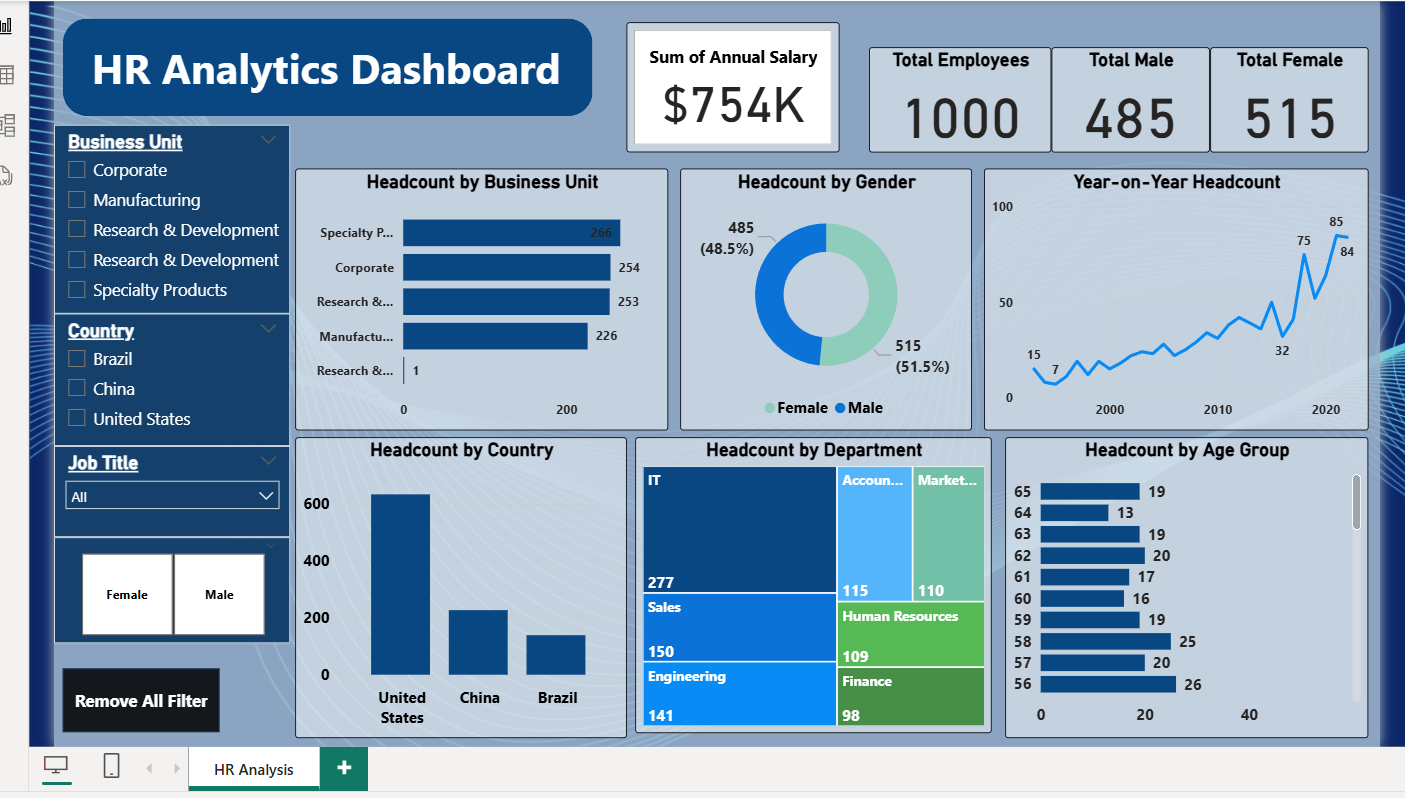

This screenshot's page, from the dashboard's own definition file:
{"tool":"powerbi","page":{"name":"HR Analysis","canvas":[1280,720],"ordinal":0},"visuals":[{"type":"donutChart","title":"Headcount by Gender","fields":{"Category":["Employee Data.Gender"],"Y":["CountNonNull(Employee Data.Employee ID)"]},"box":[604.3,161.4,281.4,252.9],"z":0},{"type":"lineChart","title":"Year-on-Year Headcount","fields":{"Category":["Employee Data.Hire Date.Variation.Date Hierarchy.Year"],"Y":["CountNonNull(Employee Data.Employee ID)"]},"box":[897.1,161.4,371.4,252.9],"z":1000},{"type":"clusteredBarChart","title":"Headcount by Age Group","fields":{"Category":["Employee Data.Age"],"Y":["CountNonNull(Employee Data.Employee ID)"]},"box":[918.6,421.4,350,290],"z":2000},{"type":"columnChart","title":"Headcount by Country","fields":{"Y":["CountNonNull(Employee Data.Country)"],"Category":["Employee Data.Country"]},"box":[232.9,421.4,320,290],"z":3000},{"type":"clusteredBarChart","title":"Headcount by Business Unit","fields":{"Y":["CountNonNull(Employee Data.Country)"],"Category":["Employee Data.Business Unit"]},"box":[232.9,161.4,360,252.9],"z":4000},{"type":"treemap","title":"Headcount by Department","fields":{"Values":["CountNonNull(Employee Data.Country)"],"Group":["Employee Data.Department"]},"box":[561.4,421.4,344.3,285.7],"z":5000},{"type":"card","title":"Total Female","fields":{"Values":["Employee Data.Total_Female_Count"]},"box":[1115.7,44.3,152.9,101.4],"z":6000},{"type":"card","title":"Total Male","fields":{"Values":["Employee Data.Total_Male_Count"]},"box":[962.9,44.3,152.9,101.4],"z":7000},{"type":"shape","box":[8.6,17.1,511.4,94.3],"z":8000},{"type":"card","title":"Total Employees","fields":{"Values":["CountNonNull(Employee Data.Employee ID)"]},"box":[786.6,44.6,176.1,101.3],"z":9000},{"type":"cardVisual","title":"Headcount by Gender","fields":{"Data":["Sum(Employee Data.Annual Salary)"]},"box":[552.9,20,205.7,125.7],"z":10000},{"type":"slicer","fields":{"Values":["Employee Data.Business Unit"]},"box":[0,119.4,228,182.2],"z":11000},{"type":"shape","box":[8.6,644.3,151.4,61.4],"z":12000},{"type":"slicer","fields":{"Values":["Employee Data.Gender"]},"box":[0,517.6,228,102.5],"z":13000},{"type":"slicer","fields":{"Values":["Employee Data.Job Title"]},"box":[0,429.5,228,88.1],"z":14000},{"type":"slicer","fields":{"Values":["Employee Data.Country"]},"box":[0,301.6,228,127.9],"z":15000}]}

Visuals, with their boxes in screenshot pixels (x1, y1, x2, y2):
"Headcount by Gender" donutChart: l=679, t=169, r=972, b=433
"Year-on-Year Headcount" lineChart: l=984, t=169, r=1372, b=433
"Headcount by Age Group" clusteredBarChart: l=1007, t=440, r=1372, b=743
"Headcount by Country" columnChart: l=291, t=440, r=625, b=743
"Headcount by Business Unit" clusteredBarChart: l=291, t=169, r=667, b=433
"Headcount by Department" treemap: l=634, t=440, r=993, b=738
"Total Female" card: l=1212, t=46, r=1372, b=152
"Total Male" card: l=1053, t=46, r=1213, b=152
shape: l=57, t=18, r=591, b=116
"Total Employees" card: l=869, t=47, r=1053, b=152
"Headcount by Gender" cardVisual: l=625, t=21, r=840, b=152
slicer - Employee Data.Business Unit: l=48, t=125, r=286, b=315
shape: l=57, t=673, r=215, b=737
slicer - Employee Data.Gender: l=48, t=540, r=286, b=647
slicer - Employee Data.Job Title: l=48, t=448, r=286, b=540
slicer - Employee Data.Country: l=48, t=315, r=286, b=448
